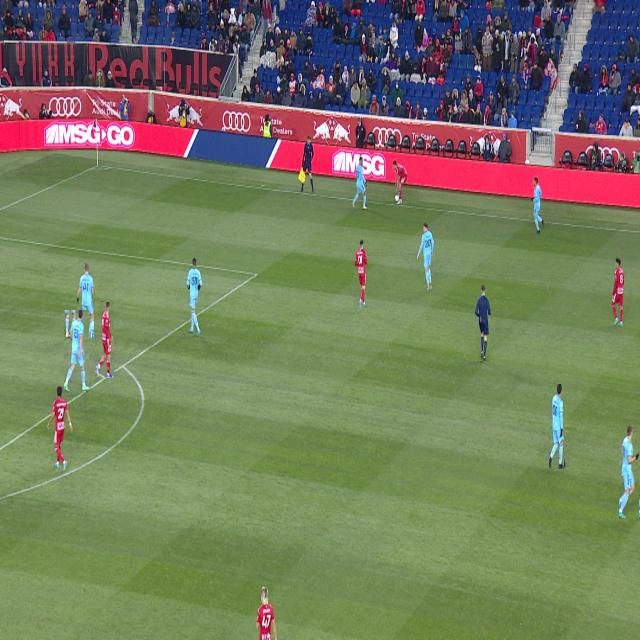player: (48, 387, 73, 471), (64, 311, 89, 391), (620, 425, 639, 519), (96, 302, 114, 378), (77, 264, 94, 338), (550, 384, 564, 469), (417, 223, 434, 292), (187, 258, 202, 336), (256, 586, 277, 640), (352, 156, 368, 209), (355, 240, 367, 308), (612, 258, 624, 326), (531, 177, 545, 234)
referee: (476, 286, 490, 361)
